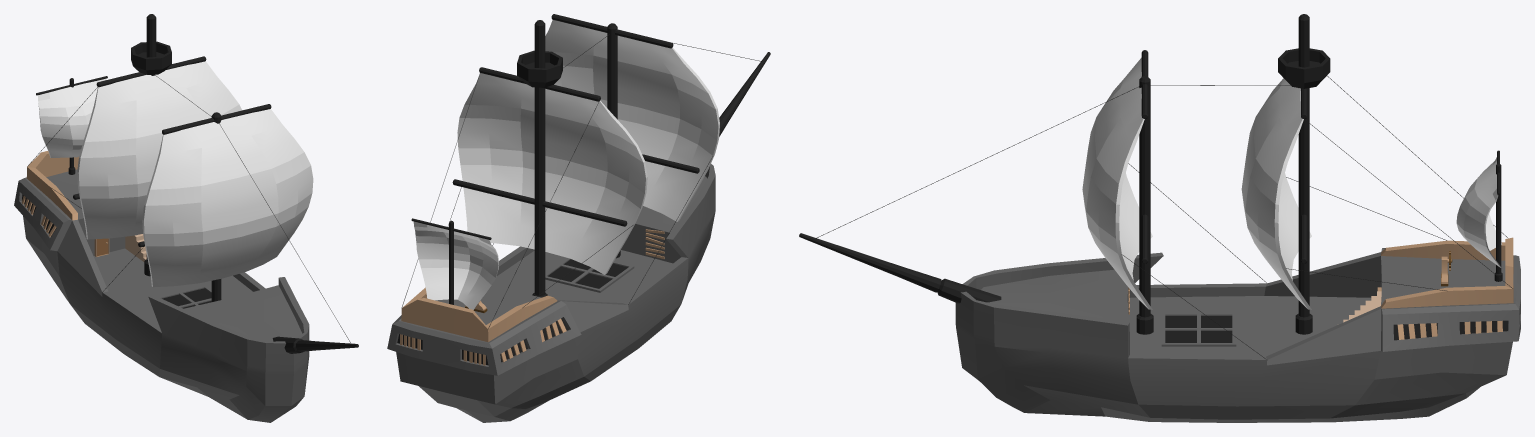
Rendered from ship_001.glb.
3 renders of one model, left to right at view 1: azimuth 30°, elevation 25°; view 2: azimuth 150°, elevation 25°; view 3: azimuth 270°, elevation 25°, orthographic. The views are drawn at different scales.
Visible parts, largest first — view 1: ship.001; view 2: ship.001; view 3: ship.001.
Boxes of the visible parts, x1,y1,x2,y2 form: ship.001: (14,14,358,422); ship.001: (387,14,770,422); ship.001: (799,14,1520,422).
Bounding box in the file's own units: 9.52 × 17.4 × 28.73.
1 material, 1 textured.
